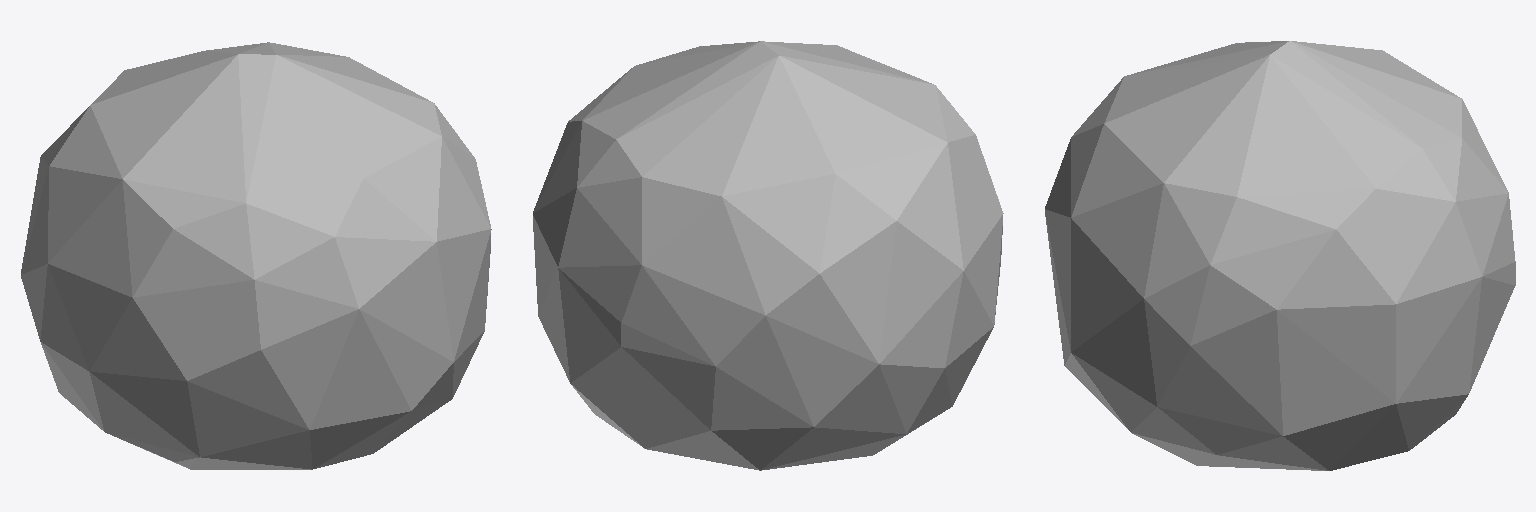
robot.urdf — root:
<robot name="root">
  <link name="link_5647fb465e36a65f7698a203d9aba6a_convex_piece_0">
    <inertial>
      <origin rpy="0 0 0" xyz="0 0 0"/>
      <mass value="3.95E-05"/>
      <inertia ixx="7.40E-09" ixy="2.47E-13" ixz="2.05E-11" iyy="7.41E-09" iyz="2.95E-11" izz="8.42E-09"/>
    </inertial>
    <visual>
      <origin rpy="0 0 0" xyz="0 0 0"/>
      <geometry>
        <mesh filename="5647fb465e36a65f7698a203d9aba6a_convex_piece_0.obj" scale="1.0000E+00"/>
      </geometry>
      <material name="">
        <color rgba="7.50E-01 7.50E-01 7.50E-01 1"/>
      </material>
    </visual>
    <collision>
      <origin rpy="0 0 0" xyz="0 0 0"/>
      <geometry>
        <mesh filename="5647fb465e36a65f7698a203d9aba6a_convex_piece_0.obj" scale="1.0000E+00"/>
      </geometry>
    </collision>
  </link>
</robot>

--- Facts derived from the render (not from the file) ---
The picture shows the robot from 3 angles, left to right: view 1: azimuth 30°, elevation 25°; view 2: azimuth 150°, elevation 25°; view 3: azimuth 270°, elevation 25°; orthographic projection.
Model root with 1 links and 0 joints (none), rooted at link_5647fb465e36a65f7698a203d9aba6a_convex_piece_0, posed every joint at zero.
Links seen in each view (by area): view 1: link_5647fb465e36a65f7698a203d9aba6a_convex_piece_0; view 2: link_5647fb465e36a65f7698a203d9aba6a_convex_piece_0; view 3: link_5647fb465e36a65f7698a203d9aba6a_convex_piece_0.
Boxes of the visible links, x1,y1,x2,y2 form: link_5647fb465e36a65f7698a203d9aba6a_convex_piece_0: (21, 42, 491, 469); link_5647fb465e36a65f7698a203d9aba6a_convex_piece_0: (533, 41, 1003, 470); link_5647fb465e36a65f7698a203d9aba6a_convex_piece_0: (1045, 41, 1515, 470).
Bounding box of the posed robot: 0.0455 × 0.0455 × 0.041 m (x, y, z).
Meshes: 1 distinct files referenced, 1 mesh visuals loaded (1 OBJ).